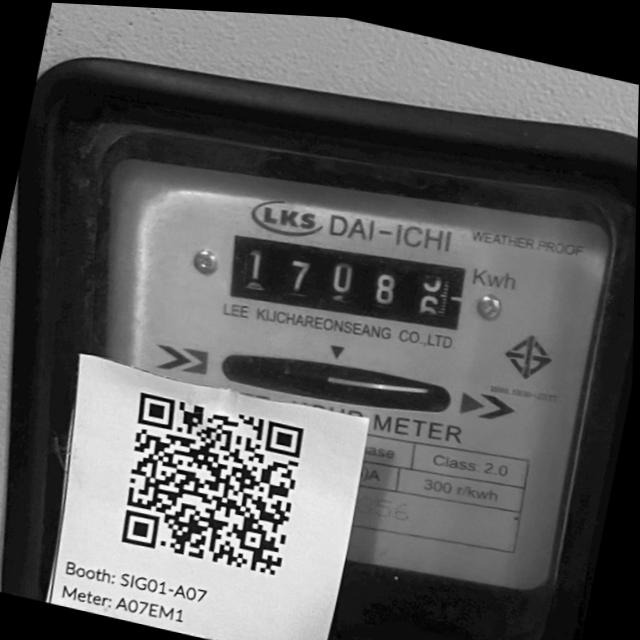qr_code: (116, 388, 310, 580)
